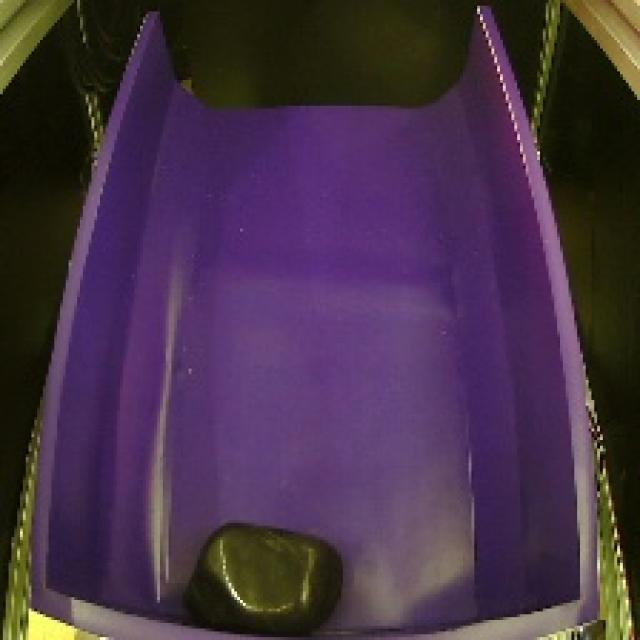cobbles: (161, 514, 351, 634)
